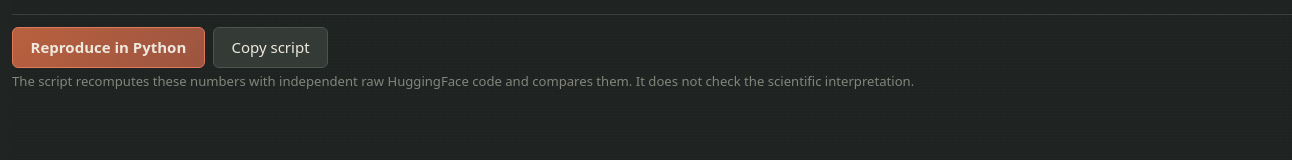
ReproduceButton › shows a visible error when the server refuses the request
Click the button "Reproduce in Python": (108, 47) [12,27,205,68]
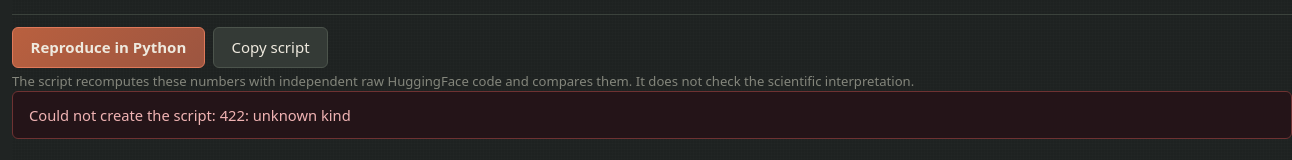
Now the message shows "422: unknown kind", box [220,104,351,124]
